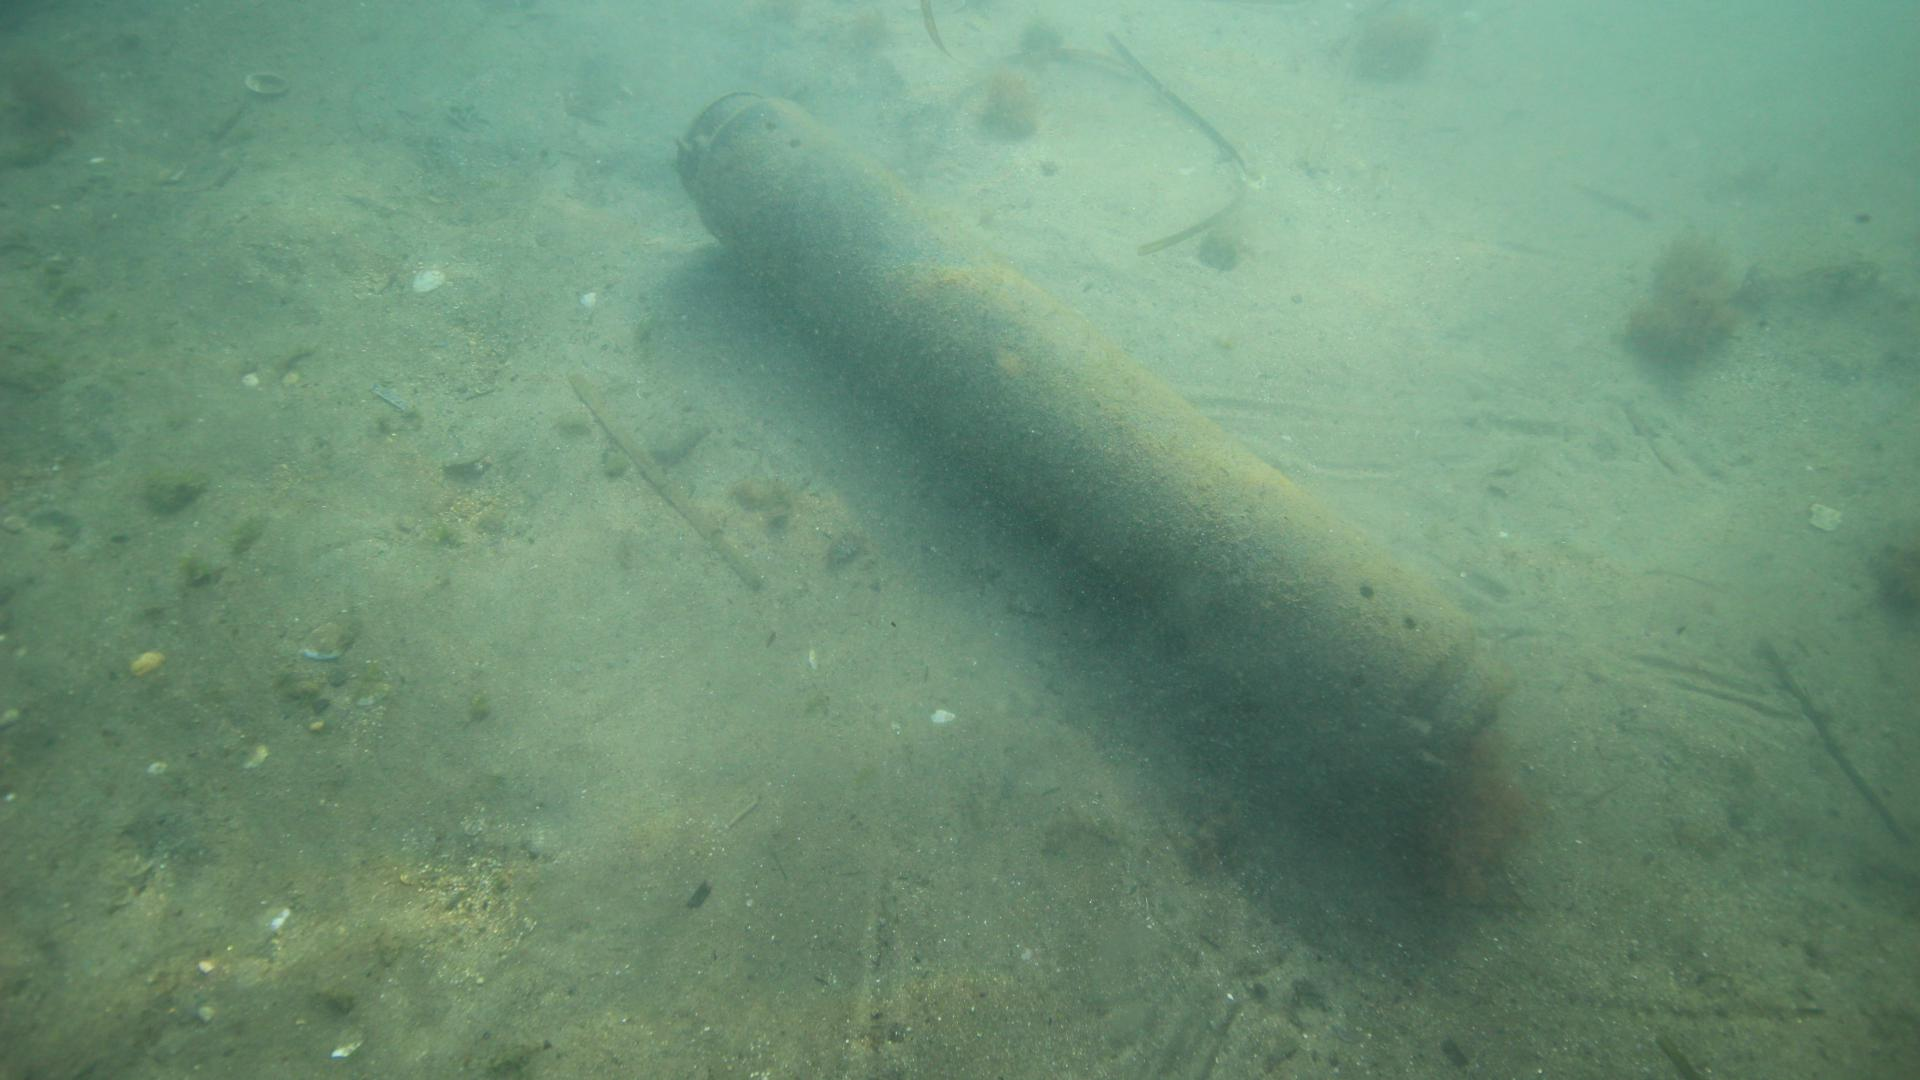eel fish trap: (673, 82, 1506, 828)
